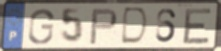5: (60, 6, 86, 46)
6: (155, 8, 179, 45)
D: (118, 6, 150, 47)
E: (181, 7, 214, 46)
G: (27, 8, 56, 46)
P: (88, 7, 119, 46)
